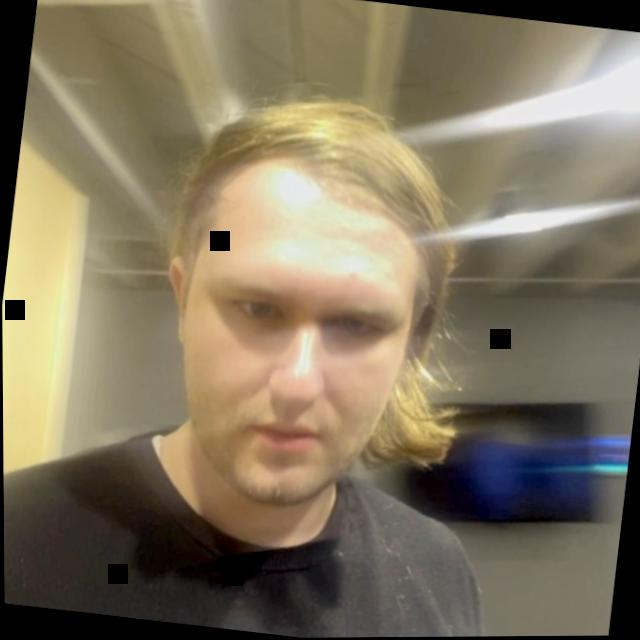NO-Mask: (115, 42, 527, 593)
